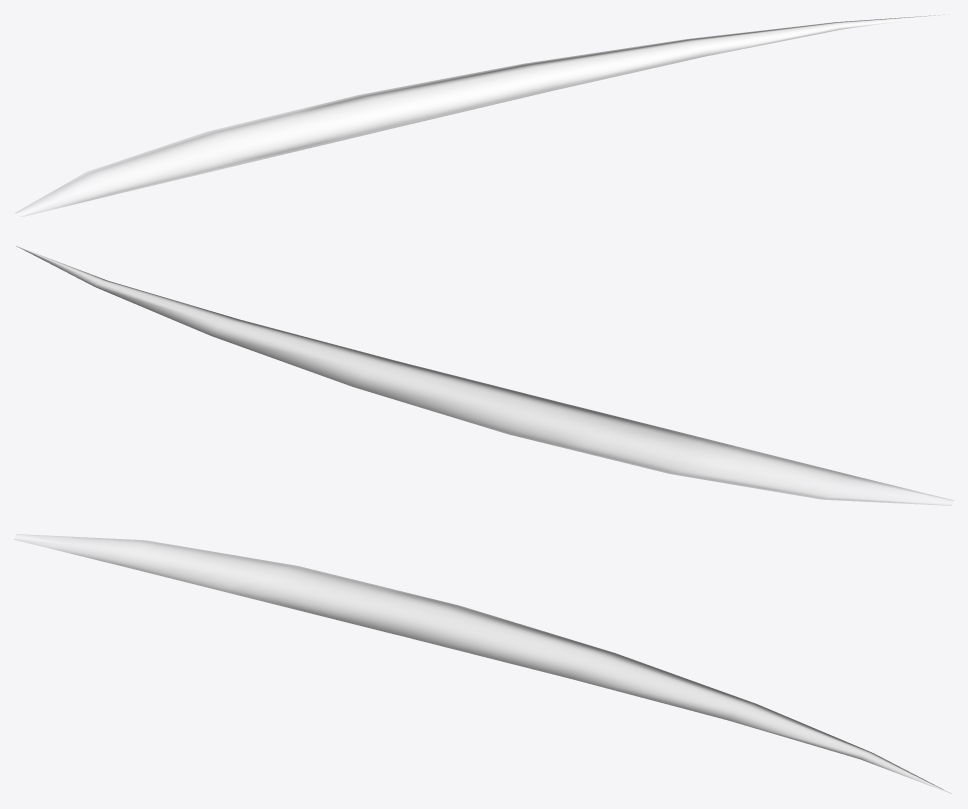
File: sharp.glb
3 renders of one model, top to bottom at view 1: azimuth 30°, elevation 25°; view 2: azimuth 150°, elevation 25°; view 3: azimuth 330°, elevation 25°, orthographic. The views are drawn at different scales.
Parts seen in each view (by area): view 1: NurbsPath; view 2: NurbsPath; view 3: NurbsPath.
Boxes of the visible parts, bbox=[...] form: NurbsPath: bbox=[15, 14, 950, 216]; NurbsPath: bbox=[15, 245, 953, 505]; NurbsPath: bbox=[14, 534, 952, 794].
Size of the model in its own units: 15.38 by 0.3977 by 1.94.
1 material, 1 textured.
